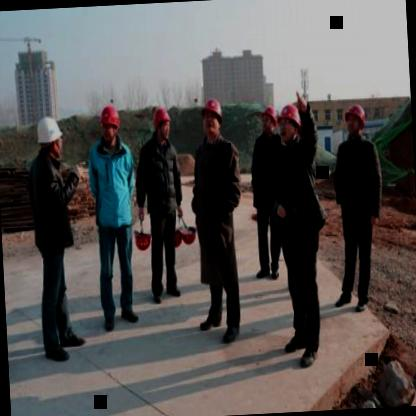helmet: (32, 112, 65, 163), (198, 94, 226, 142), (278, 97, 303, 148), (98, 101, 123, 150), (342, 98, 368, 141), (148, 104, 172, 144), (254, 100, 277, 140)
